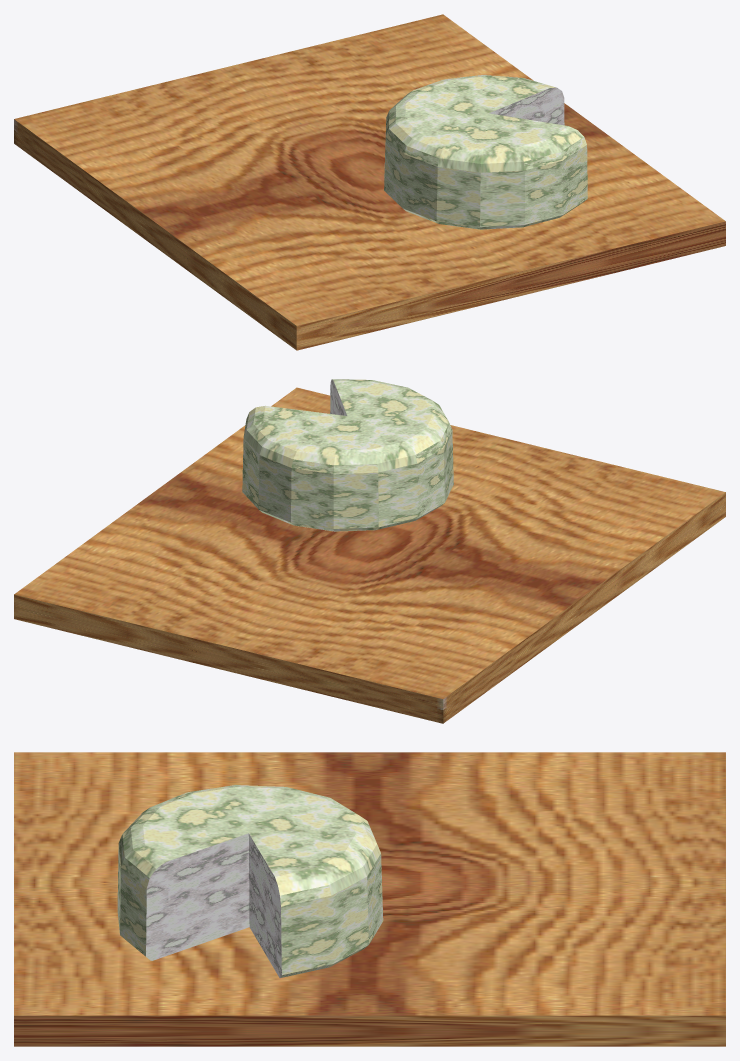
Rendered from cheese_board.fbx.
3 views of the same model, one above another, from view 1: azimuth 30°, elevation 25°; view 2: azimuth 150°, elevation 25°; view 3: azimuth 270°, elevation 25° (orthographic). The views are drawn at different scales.
Visible parts, largest first — view 1: Mesh1; view 2: Mesh1; view 3: Mesh1.
Boxes of the visible parts, x1=… form: Mesh1: x1=14, y1=14, x2=725, y2=350; Mesh1: x1=14, y1=379, x2=725, y2=723; Mesh1: x1=14, y1=752, x2=725, y2=1046.
Size of the model in its own units: 163 by 36.51 by 186.
